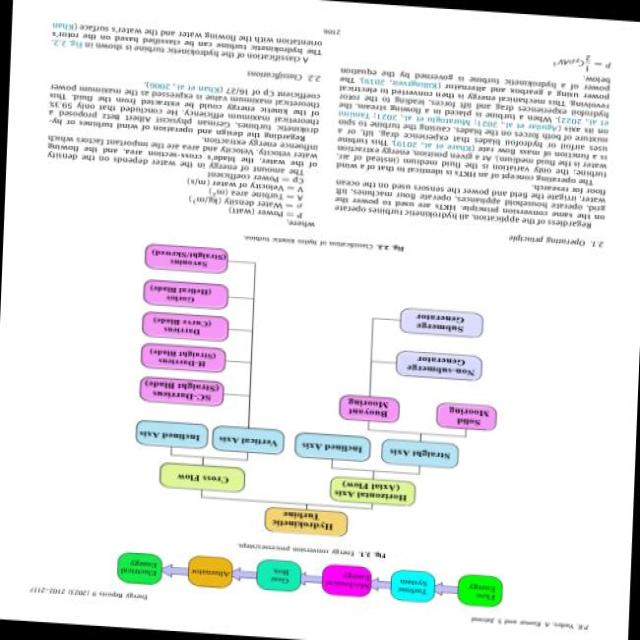Figure Detection - v3 Dataset Version2: (94, 234, 519, 556), (105, 542, 514, 613)
